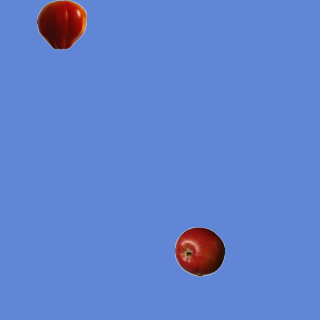Apple Braeburn: (174, 226, 224, 276)
Tomato 1: (36, 0, 86, 49)
